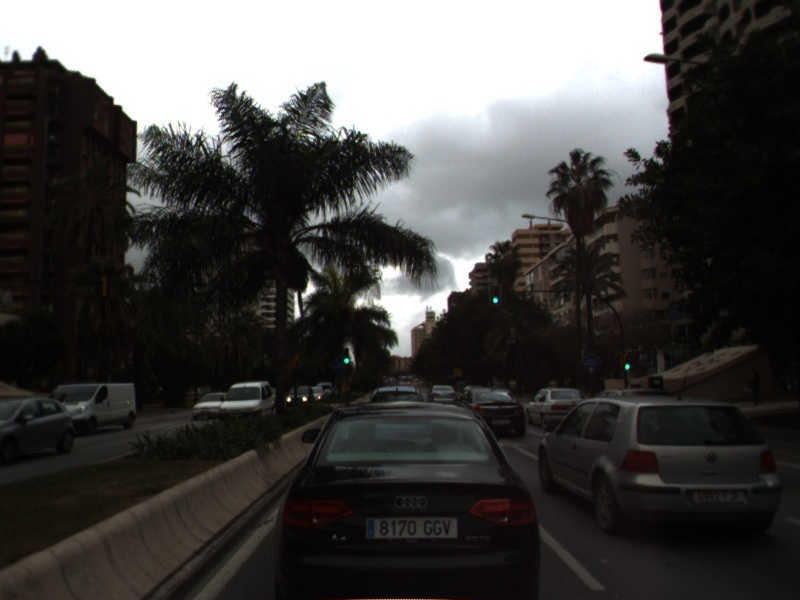STRAIGHT: (497, 435, 540, 461)
